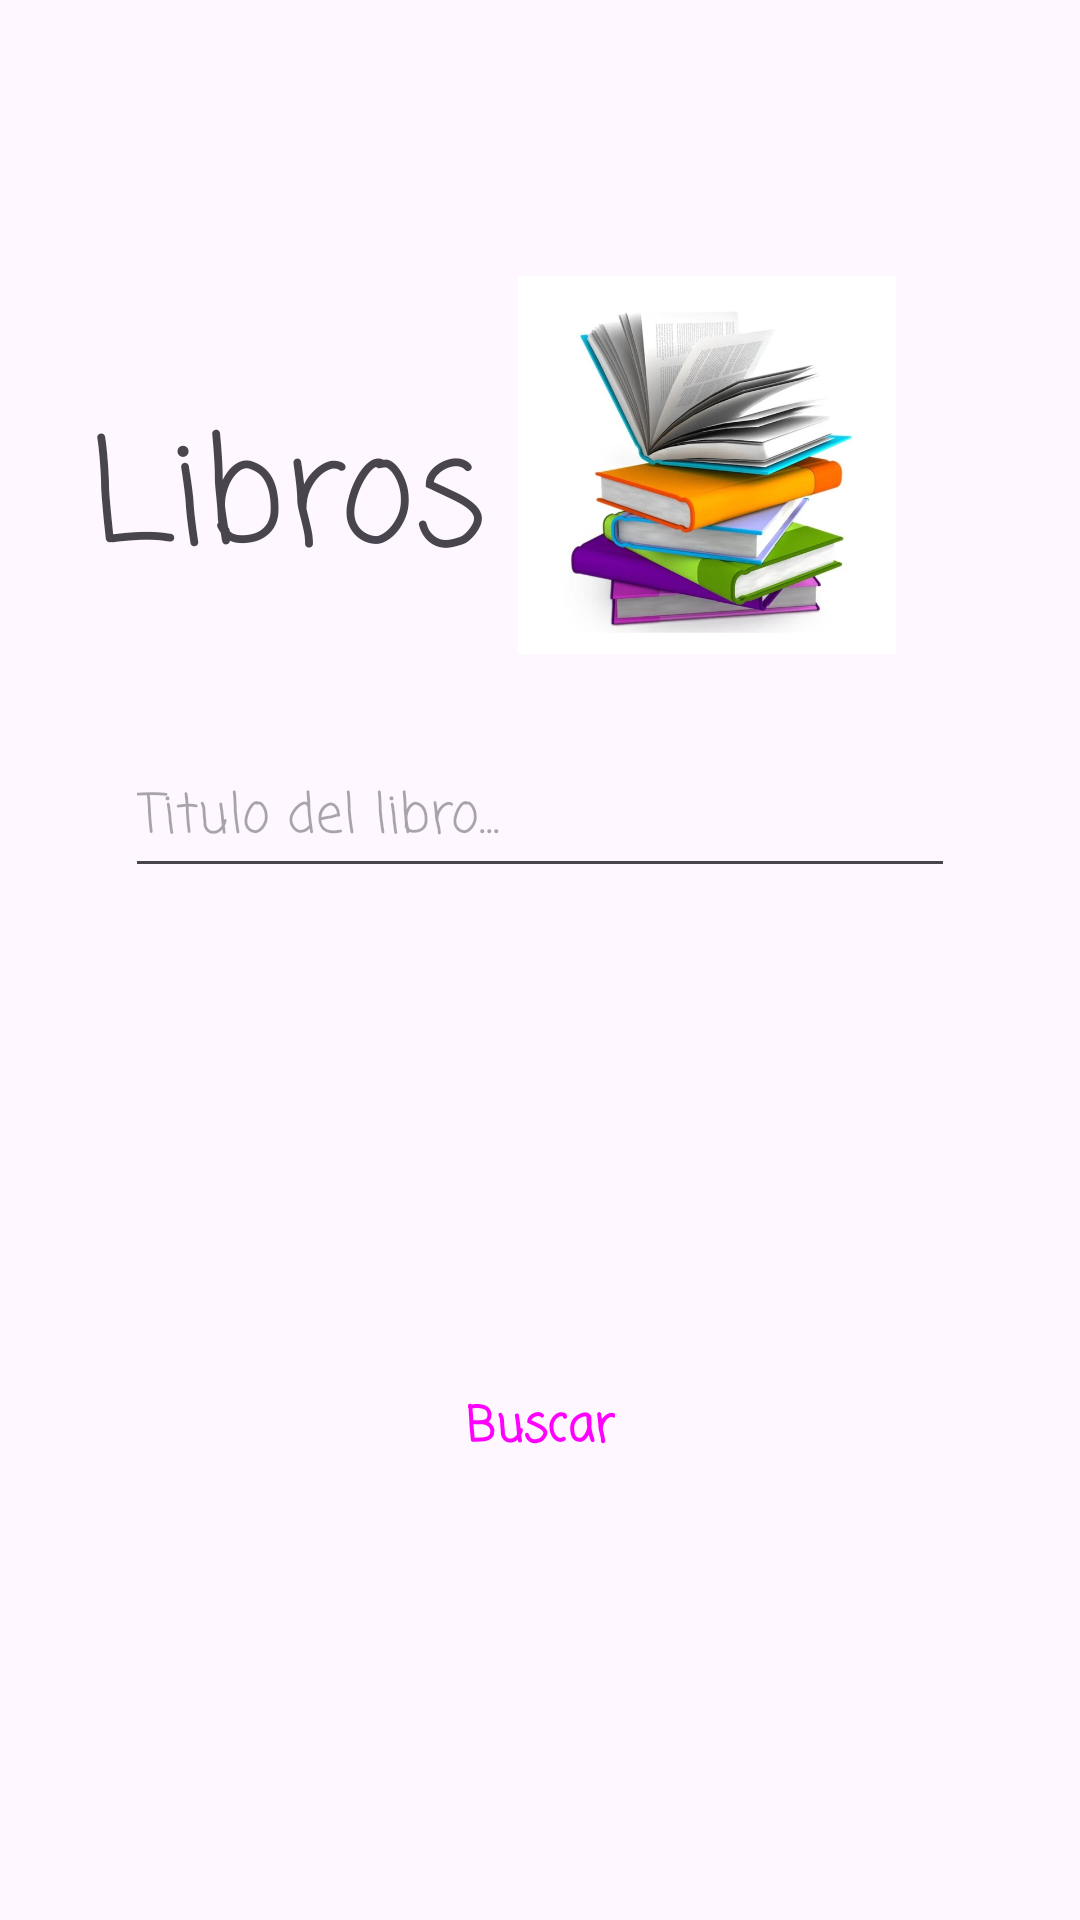

Where to tap for icons on this 1080w x 1920h app screen, as point (x, y):
portada: point (711, 472)
